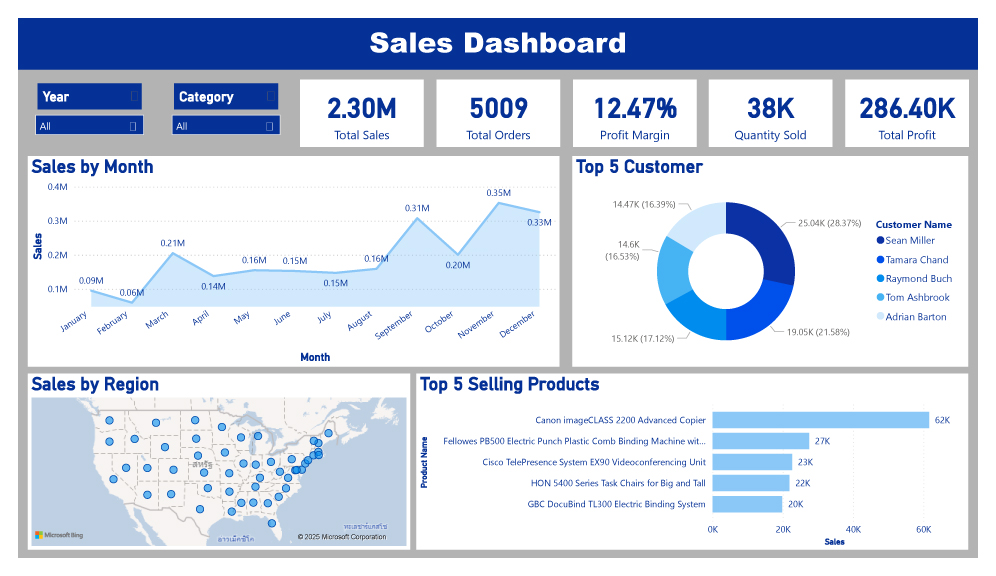

What the dashboard file says about the page in this screenshot:
{"tool":"powerbi","page":{"name":"Page 1","canvas":[1280,720],"ordinal":0},"visuals":[{"type":"card","fields":{"Values":["Sum(Orders.Sales)"]},"box":[376,81.8,165,90],"z":0,"group":"g1"},{"type":"card","fields":{"Values":["Orders.Total Orders"]},"box":[557.7,81.8,165,90],"z":1000,"group":"g1"},{"type":"card","fields":{"Values":["Sum(Orders.Profit)"]},"box":[1102.7,81.8,164.6,89.6],"z":2000,"group":"g1"},{"type":"card","fields":{"Values":["Sum(Orders.Quantity)"]},"box":[921.1,81.8,165,90],"z":3000,"group":"g1"},{"type":"areaChart","fields":{"Category":["Orders.Order Date.Variation.Date Hierarchy.Month"],"Y":["Sum(Orders.Sales)"]},"box":[12.7,184.1,709.2,280.5],"z":4000},{"type":"card","fields":{"Values":["Orders.Profit Margin"]},"box":[739.4,81.8,165,90],"z":5000,"group":"g1"},{"type":"clusteredBarChart","title":"Top 5 Selling Products","fields":{"Y":["Sum(Orders.Sales)"],"Category":["Orders.Product Name"]},"box":[530.9,474.4,736.4,234.8],"z":6000},{"type":"map","fields":{"Category":["Orders.State"]},"box":[12.7,474.4,510.4,234.8],"z":7000},{"type":"textbox","box":[0,0,1280,69.2],"z":8000},{"type":"slicer","fields":{"Values":["Orders.Category"]},"box":[194.4,81.8,165,90],"z":9000,"group":"g1"},{"type":"slicer","fields":{"Values":["Orders.Order Date.Variation.Date Hierarchy.Year"]},"box":[12.7,81.8,165,90],"z":10000,"group":"g1"},{"type":"group","id":"g1","title":"Group 1","box":[12.7,81.8,1254.7,90],"z":10001},{"type":"donutChart","title":"Top 5 Customer","fields":{"Category":["Orders.Customer Name"],"Y":["Sum(Orders.Sales)"]},"box":[739.4,184.1,528,280.5],"z":10002}]}

Visuals, with their boxes in screenshot pixels (x1, y1, x2, y2), scaled from the page's 1280x720 canvas onto the 996x576 screenshot:
card - Sum(Orders.Sales): 293/65/421/137
card - Orders.Total Orders: 434/65/562/137
card - Sum(Orders.Profit): 858/65/986/137
card - Sum(Orders.Quantity): 717/65/845/137
areaChart - Orders.Order Date.Variation.Date Hierarchy.Month x Sum(Orders.Sales): 10/147/562/372
card - Orders.Profit Margin: 575/65/704/137
"Top 5 Selling Products" clusteredBarChart: 413/380/986/567
map - Orders.State: 10/380/407/567
textbox: 0/0/995/55
slicer - Orders.Category: 151/65/280/137
slicer - Orders.Order Date.Variation.Date Hierarchy.Year: 10/65/138/137
"Group 1" group: 10/65/986/137
"Top 5 Customer" donutChart: 575/147/986/372
